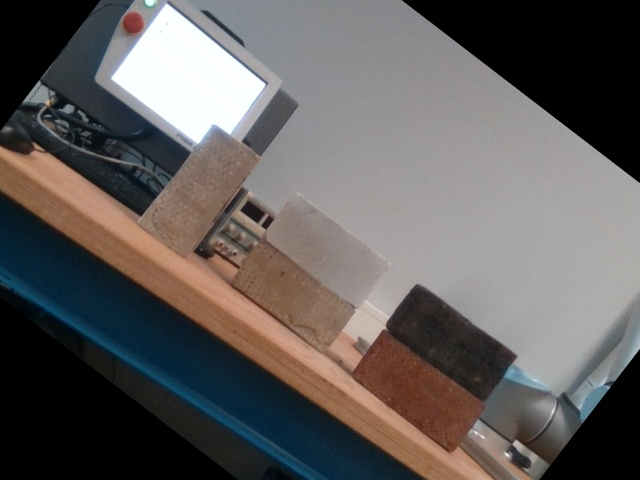brick: (141, 126, 258, 256), (356, 336, 482, 447), (388, 287, 512, 396), (266, 197, 384, 303), (236, 245, 350, 348)
